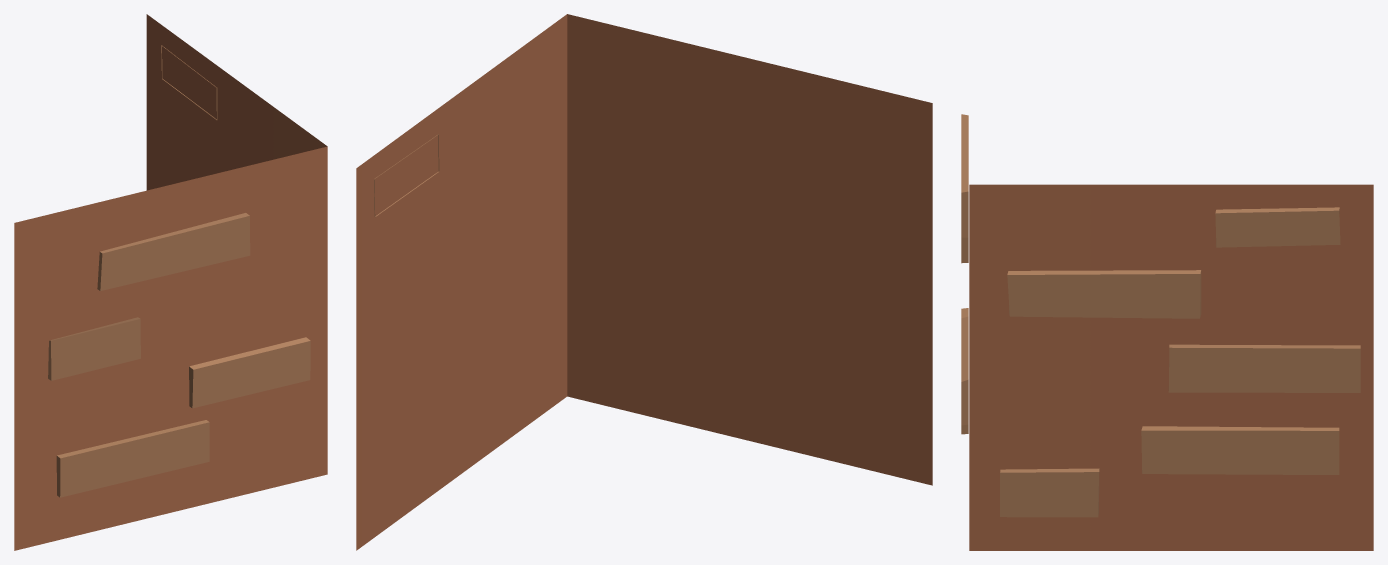
Rendered from Ext-BrickV3CornerHalfWall.fbx.
The picture shows the model from 3 angles, left to right: view 1: azimuth 30°, elevation 25°; view 2: azimuth 150°, elevation 25°; view 3: azimuth 270°, elevation 25°; orthographic projection. The views are drawn at different scales.
Visible parts, largest first — view 1: Ext-BrickV3CornerHalfWall; view 2: Ext-BrickV3CornerHalfWall; view 3: Ext-BrickV3CornerHalfWall.
Boxes of the visible parts, bbox=[...] form: Ext-BrickV3CornerHalfWall: bbox=[14, 14, 327, 550]; Ext-BrickV3CornerHalfWall: bbox=[356, 14, 932, 550]; Ext-BrickV3CornerHalfWall: bbox=[961, 114, 1373, 550].
Size of the model in its own units: 102 by 100 by 102.
